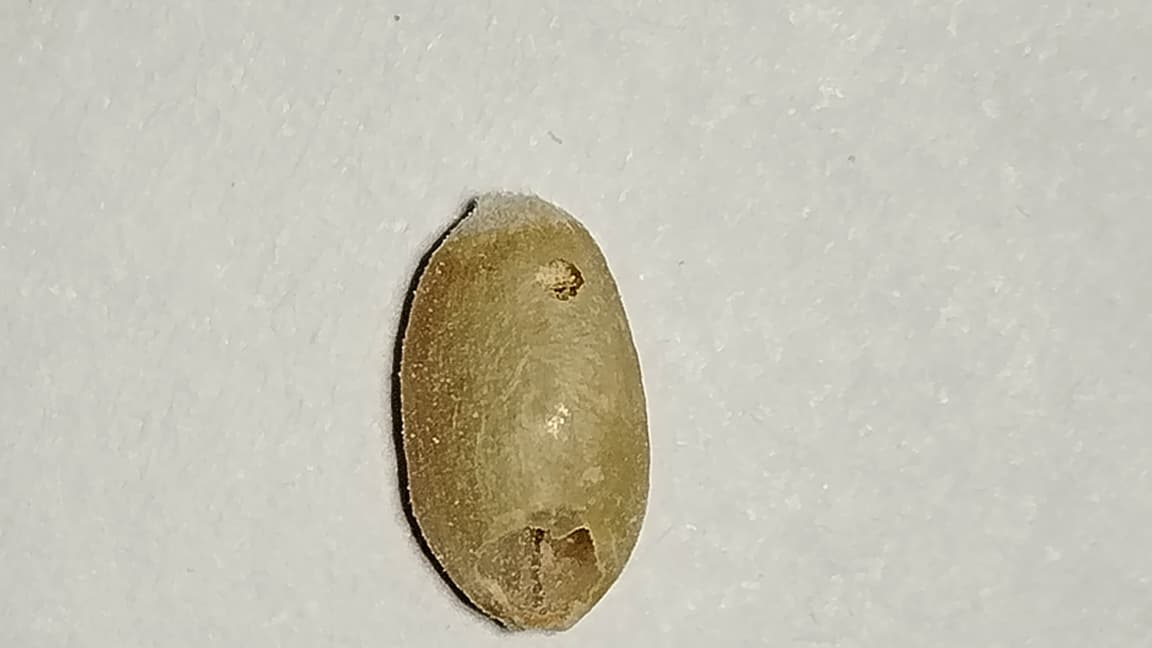damage: (399, 194, 648, 630)
insectdamage: (475, 516, 604, 629), (518, 249, 601, 315)
